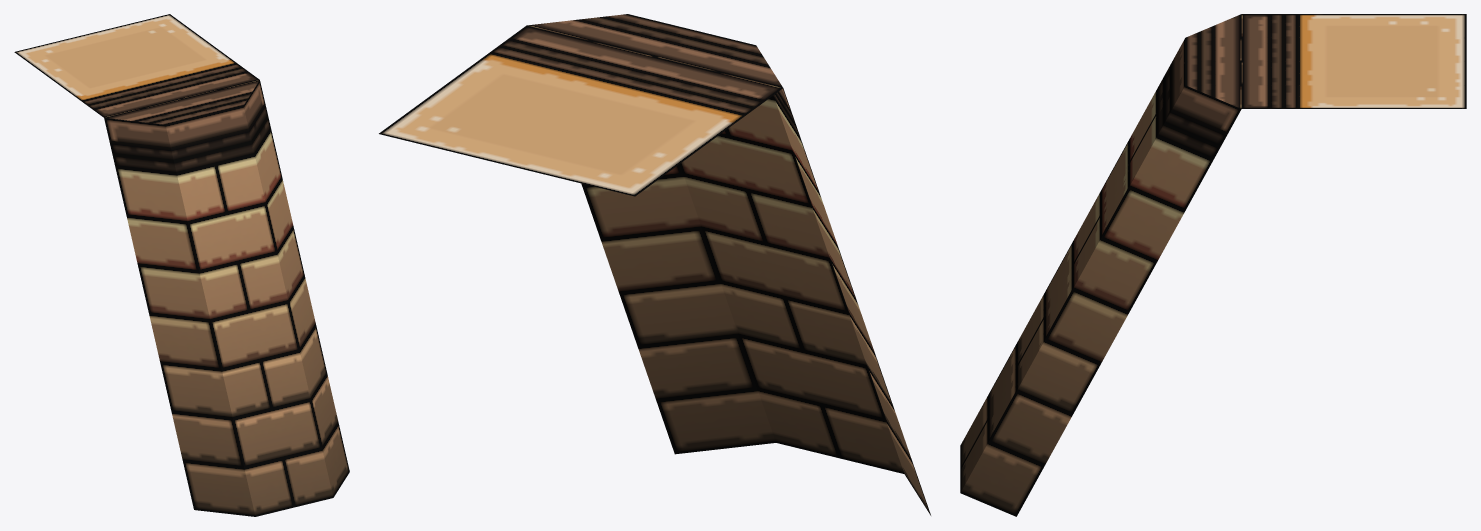
File: wall_pillar.FBX
3 views of the same model, side by side, from view 1: azimuth 30°, elevation 25°; view 2: azimuth 150°, elevation 25°; view 3: azimuth 270°, elevation 25° (orthographic). The views are drawn at different scales.
Visible parts, largest first — view 1: wall_pillar; view 2: wall_pillar; view 3: wall_pillar.
Part boxes in pixels (box(x1,y1,x2,y2)): wall_pillar: box(14, 14, 349, 516); wall_pillar: box(379, 14, 930, 515); wall_pillar: box(960, 14, 1466, 516).
Bounding box in the file's own units: 2 × 4 × 4.5.
Materials: 1 (1 with a texture image).
